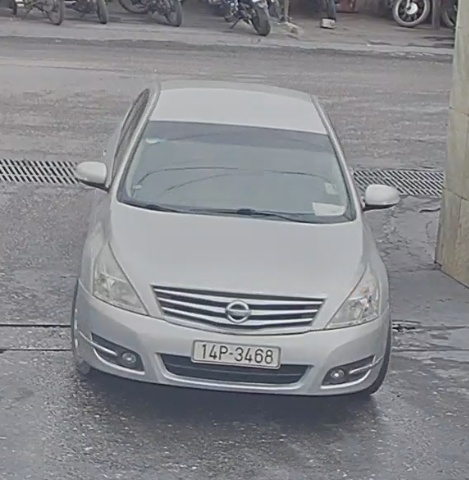vehicle plate: (187, 333, 283, 373)
